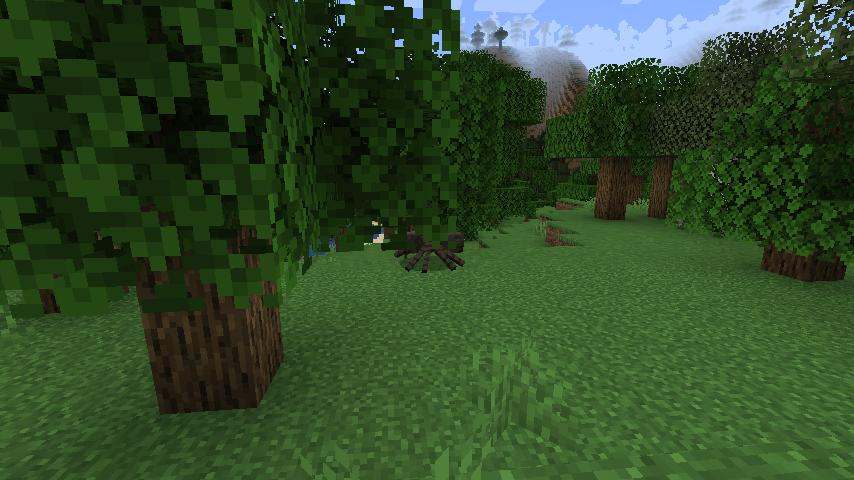spider: (394, 227, 465, 274)
